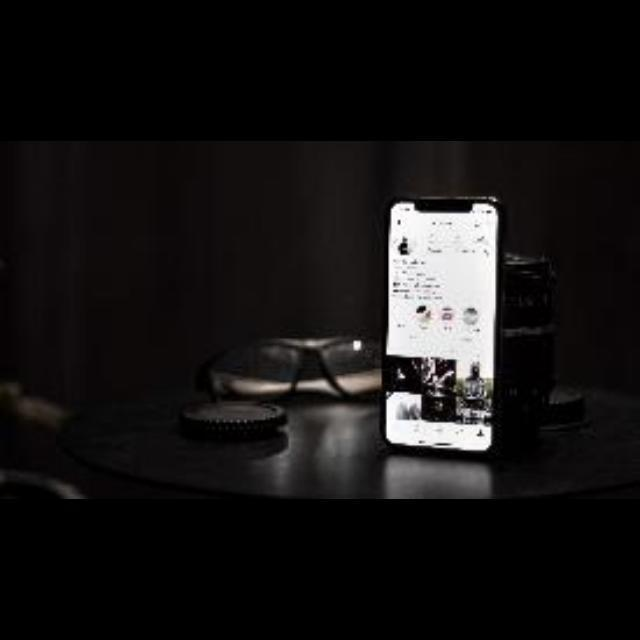Phone: (386, 194, 494, 461)
